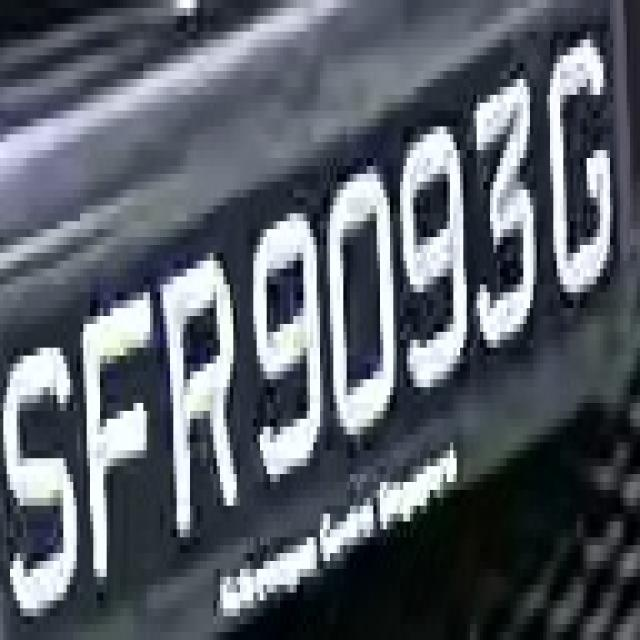0: (317, 150, 403, 450)
3: (467, 64, 543, 372)
9: (246, 182, 326, 522), (386, 111, 476, 403)
F: (70, 284, 163, 608)
G: (540, 8, 617, 316)
R: (157, 237, 243, 537)
S: (0, 324, 90, 624)
